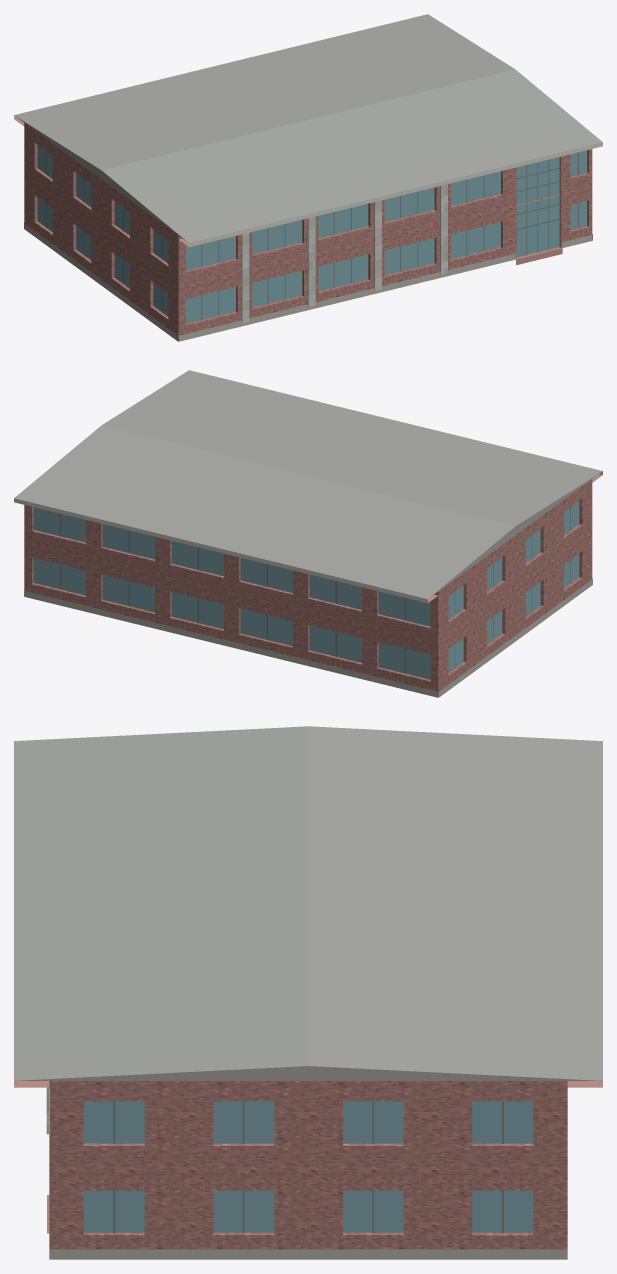
3 renders of one model, top to bottom at view 1: azimuth 30°, elevation 25°; view 2: azimuth 150°, elevation 25°; view 3: azimuth 270°, elevation 25°, orthographic. The views are drawn at different scales.
Parts seen in each view (by area): view 1: ceramics__roofAccent, ceramics__wall, ceramics__glass, ceramics__base, ceramics__ceramicPier, ceramics__frame, ceramics__trim, ceramics__wall2; view 2: ceramics__roofAccent, ceramics__wall, ceramics__glass, ceramics__base, ceramics__trim, ceramics__wall2, ceramics__frame; view 3: ceramics__roofAccent, ceramics__wall, ceramics__glass, ceramics__base, ceramics__wall2, ceramics__frame.
Boxes of the visible parts, x1,y1,x2,y2 form: ceramics__roofAccent: (14,14,602,243); ceramics__wall: (24,123,592,341); ceramics__glass: (37,145,587,323); ceramics__base: (24,223,592,341); ceramics__ceramicPier: (241,184,447,323); ceramics__frame: (46,151,578,320); ceramics__trim: (14,115,602,247); ceramics__wall2: (16,116,186,241); ceramics__roofAccent: (14,370,602,599); ceramics__wall: (24,479,592,697); ceramics__glass: (33,501,579,679); ceramics__base: (24,578,592,697); ceramics__trim: (14,471,602,603); ceramics__wall2: (430,472,600,597); ceramics__frame: (60,507,570,673); ceramics__roofAccent: (14,726,602,1080); ceramics__wall: (49,1081,567,1249); ceramics__glass: (83,1101,533,1232); ceramics__base: (49,1249,567,1259); ceramics__wall2: (16,1066,600,1080); ceramics__frame: (113,1101,503,1232).
Bounding box in the file's own units: 31.95 × 8.85 × 23.35.
Materials: 11 (2 with a texture image).
